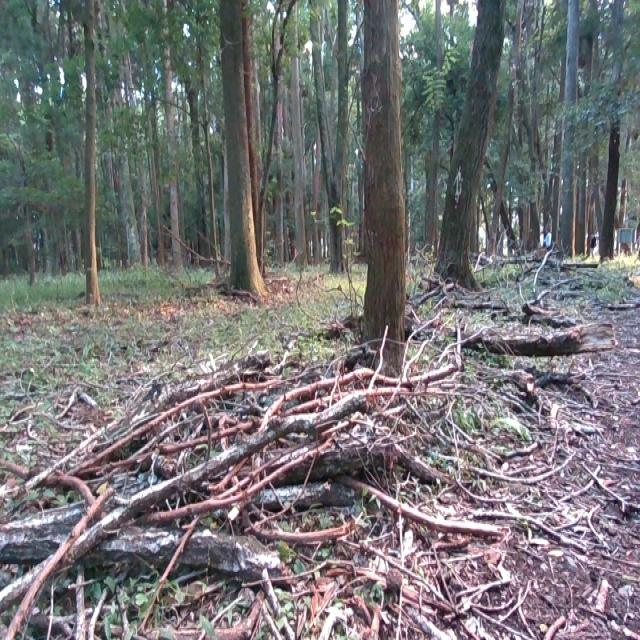tree: (0, 496, 307, 593), (354, 0, 418, 368), (432, 0, 511, 292), (212, 0, 272, 304), (75, 0, 111, 308), (308, 0, 347, 277), (414, 300, 600, 354), (595, 0, 629, 259), (156, 0, 188, 269), (554, 0, 588, 248), (286, 0, 309, 269)
